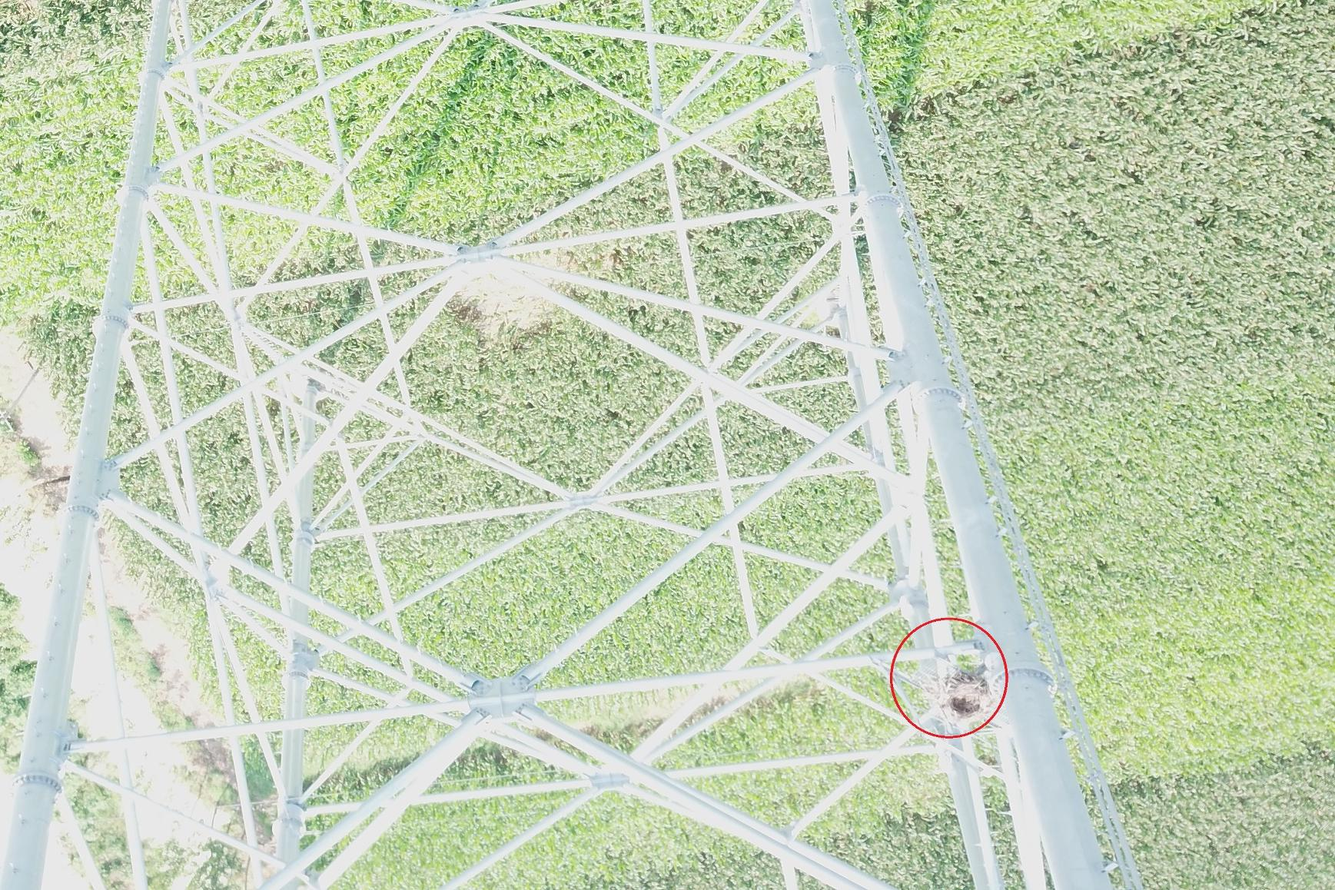nest: (929, 660, 999, 729)
